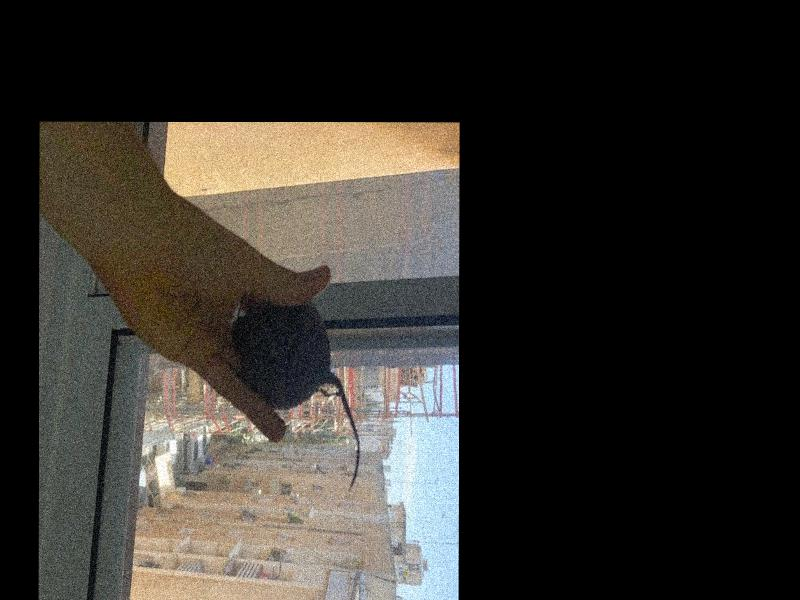Beet: (232, 303, 361, 492)
